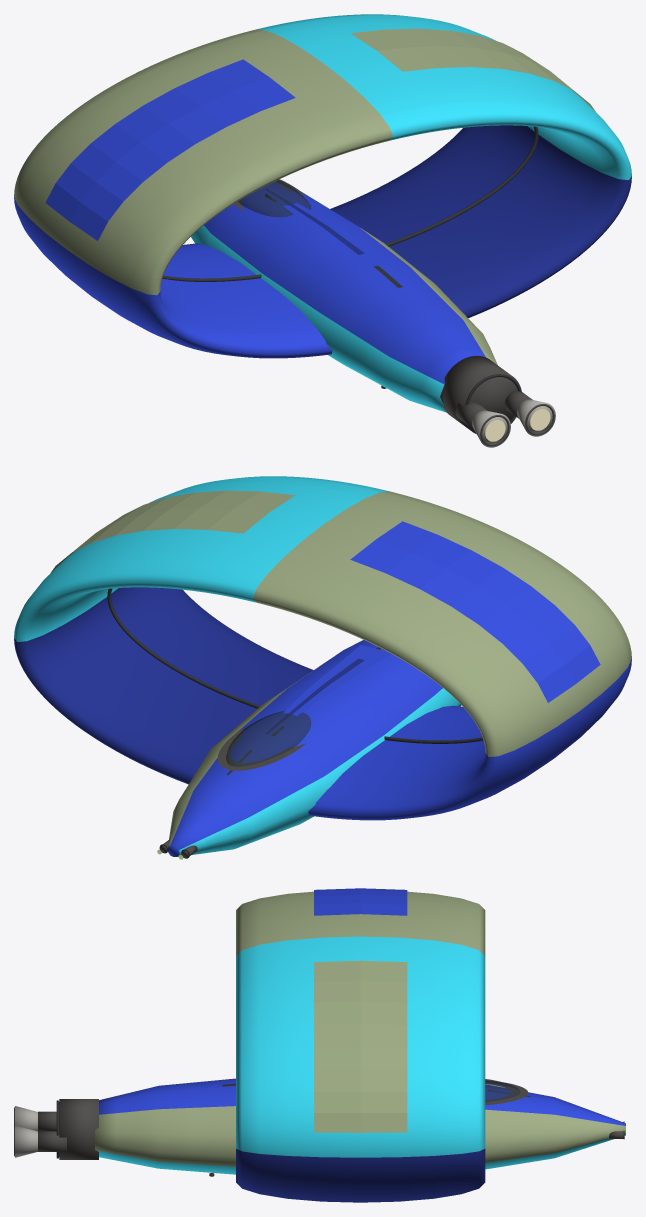
Rendered from Ship_Hooper_302864.glb.
The picture shows the model from 3 angles, top to bottom: view 1: azimuth 30°, elevation 25°; view 2: azimuth 150°, elevation 25°; view 3: azimuth 270°, elevation 25°; orthographic projection. The views are drawn at different scales.
Parts seen in each view (by area): view 1: Hoop_MainStructuralRing_YAxisHole_ElongatedY_LowerMidpointAt, Fuselage_MainCenteredHull_CenterOfMassAtOrigin, PaintHoopQuadrant_02_InsetPanel, PaintHoopQuadrant_01_InsetPanel, EngineBlock_AftHullIntegratedMountPlate, PaintFuselage_DorsalPrimaryBlade, CanopyGlass_LowForwardPodDome, Hoop_InnerLip_DarkInsetRing, EngineEmitter, EngineBell_Right_AftHullBurnishedNozzle, EngineBell_Left_AftHullBurnishedNozzle; view 2: Hoop_MainStructuralRing_YAxisHole_ElongatedY_LowerMidpointAt, Fuselage_MainCenteredHull_CenterOfMassAtOrigin, PaintHoopQuadrant_02_InsetPanel, PaintHoopQuadrant_01_InsetPanel, CanopyGlass_LowForwardPodDome, PaintFuselage_DorsalPrimaryBlade, Hoop_InnerLip_DarkInsetRing, CanopyFrame_LowInsetOvalRim; view 3: Hoop_MainStructuralRing_YAxisHole_ElongatedY_LowerMidpointAt, Fuselage_MainCenteredHull_CenterOfMassAtOrigin, PaintHoopQuadrant_01_InsetPanel, PaintHoopQuadrant_02_InsetPanel, EngineBlock_AftHullIntegratedMountPlate, EngineBell_Right_AftHullBurnishedNozzle, CanopyGlass_LowForwardPodDome, EngineThroat_Right_AftHullDarkSocket, CanopyFrame_LowInsetOvalRim, EngineBell_Left_AftHullBurnishedNozzle.
Boxes of the visible parts, x1,y1,x2,y2 form: Hoop_MainStructuralRing_YAxisHole_ElongatedY_LowerMidpointAt: [14, 14, 631, 358]; Fuselage_MainCenteredHull_CenterOfMassAtOrigin: [191, 182, 497, 412]; PaintHoopQuadrant_02_InsetPanel: [45, 59, 295, 240]; PaintHoopQuadrant_01_InsetPanel: [351, 28, 595, 111]; EngineBlock_AftHullIntegratedMountPlate: [442, 355, 521, 433]; PaintFuselage_DorsalPrimaryBlade: [260, 186, 392, 269]; CanopyGlass_LowForwardPodDome: [238, 179, 311, 217]; Hoop_InnerLip_DarkInsetRing: [162, 126, 538, 281]; EngineEmitter: [485, 409, 550, 441]; EngineBell_Right_AftHullBurnishedNozzle: [517, 399, 555, 436]; EngineBell_Left_AftHullBurnishedNozzle: [472, 410, 510, 447]; Hoop_MainStructuralRing_YAxisHole_ElongatedY_LowerMidpointAt: [14, 476, 631, 820]; Fuselage_MainCenteredHull_CenterOfMassAtOrigin: [167, 640, 461, 856]; PaintHoopQuadrant_02_InsetPanel: [350, 521, 600, 702]; PaintHoopQuadrant_01_InsetPanel: [50, 490, 295, 573]; CanopyGlass_LowForwardPodDome: [226, 711, 311, 766]; PaintFuselage_DorsalPrimaryBlade: [249, 645, 390, 750]; Hoop_InnerLip_DarkInsetRing: [107, 588, 483, 743]; CanopyFrame_LowInsetOvalRim: [217, 728, 305, 770]; Hoop_MainStructuralRing_YAxisHole_ElongatedY_LowerMidpointAt: [236, 891, 485, 1202]; Fuselage_MainCenteredHull_CenterOfMassAtOrigin: [95, 1078, 625, 1174]; PaintHoopQuadrant_01_InsetPanel: [314, 960, 407, 1132]; PaintHoopQuadrant_02_InsetPanel: [314, 888, 407, 915]; EngineBlock_AftHullIntegratedMountPlate: [59, 1099, 98, 1159]; EngineBell_Right_AftHullBurnishedNozzle: [15, 1125, 37, 1157]; CanopyGlass_LowForwardPodDome: [485, 1079, 520, 1101]; EngineThroat_Right_AftHullDarkSocket: [38, 1131, 66, 1151]; CanopyFrame_LowInsetOvalRim: [485, 1081, 528, 1105]; EngineBell_Left_AftHullBurnishedNozzle: [15, 1106, 37, 1131].
Bounding box in the file's own units: 5.48 × 2.67 × 6.42.
